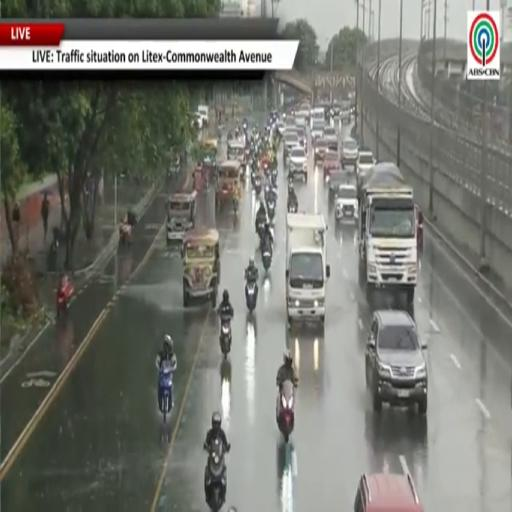car: (366, 310, 427, 415), (354, 472, 423, 511), (333, 184, 357, 225), (328, 168, 353, 203), (288, 146, 307, 182), (342, 138, 359, 168), (323, 151, 339, 181), (357, 148, 375, 173), (284, 130, 298, 162), (314, 139, 327, 165), (325, 137, 339, 158), (340, 101, 352, 124), (197, 105, 209, 127), (297, 127, 307, 151), (323, 126, 336, 137), (276, 121, 284, 136)
jeepney: (182, 230, 220, 307), (167, 191, 196, 245), (216, 160, 241, 206), (199, 139, 217, 180), (227, 140, 246, 165), (201, 139, 217, 159)
motorcycle: (205, 439, 226, 511), (277, 380, 294, 442), (159, 361, 173, 423), (56, 281, 73, 317), (220, 317, 232, 359), (244, 280, 258, 312), (119, 222, 132, 246), (262, 247, 272, 270), (256, 219, 265, 243), (267, 200, 275, 220), (254, 175, 261, 195), (232, 196, 238, 216), (288, 201, 297, 213), (271, 168, 277, 183), (271, 173, 277, 188), (263, 162, 269, 176), (251, 168, 255, 186), (227, 131, 233, 141), (235, 127, 240, 138), (243, 123, 247, 135)
truck: (358, 163, 417, 310), (286, 213, 330, 326), (311, 107, 326, 141)
